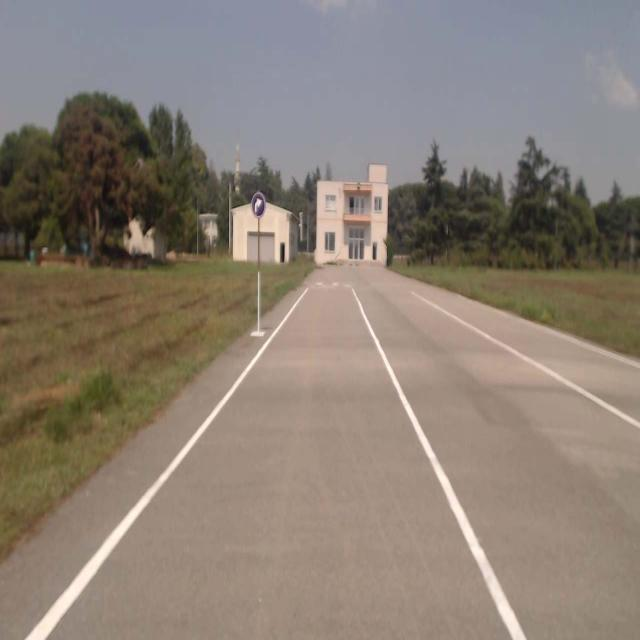sag: (252, 193, 265, 217)
